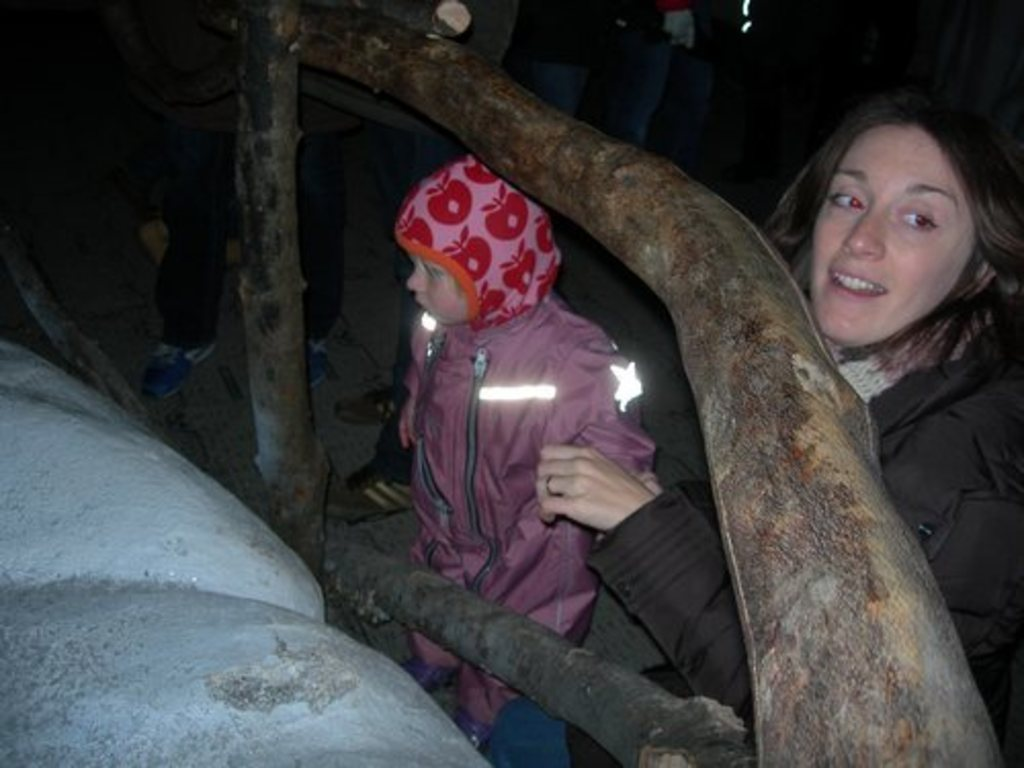Human-face: (797, 98, 987, 348)
